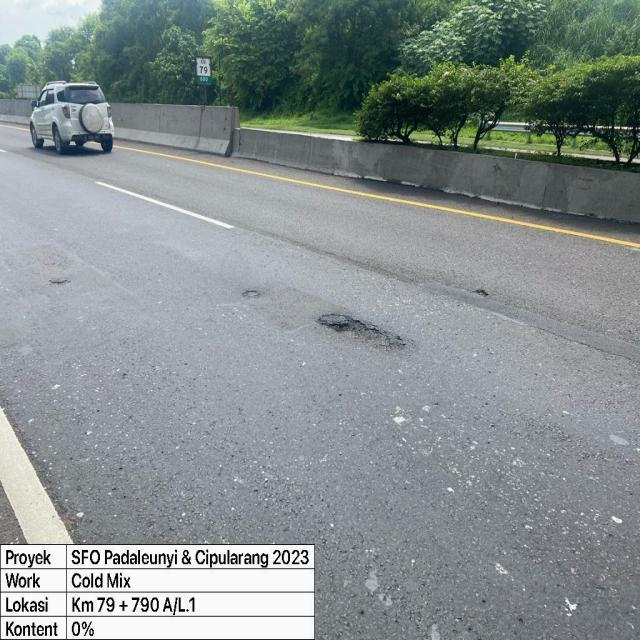Buraco: (313, 311, 410, 355), (240, 289, 263, 300)
